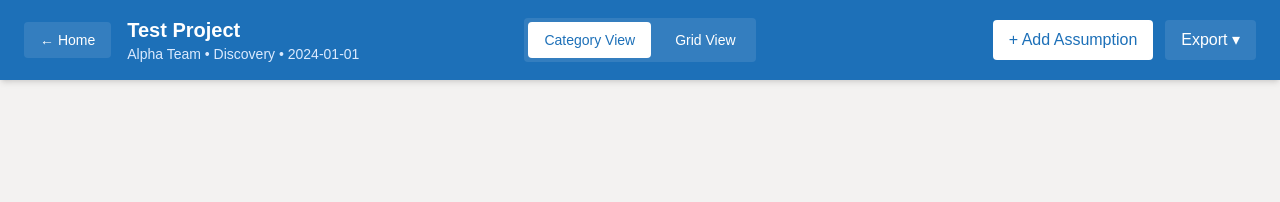
Test: TopNav › Export menu › clicking "Export ▾" shows export options
This screenshot has width=1280, height=202.
Click the button "Export ▾" at (1211, 40), box top-left (1165, 20), bottom-right (1256, 60)
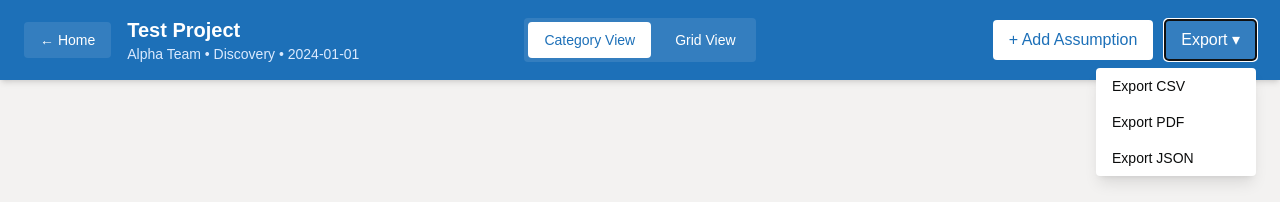
Now the button "Export CSV" is shown, box top-left (1096, 68), bottom-right (1256, 104)
Now the button "Export PDF" is shown, box top-left (1096, 104), bottom-right (1256, 140)
Now the button "Export JSON" is shown, box top-left (1096, 140), bottom-right (1256, 176)
